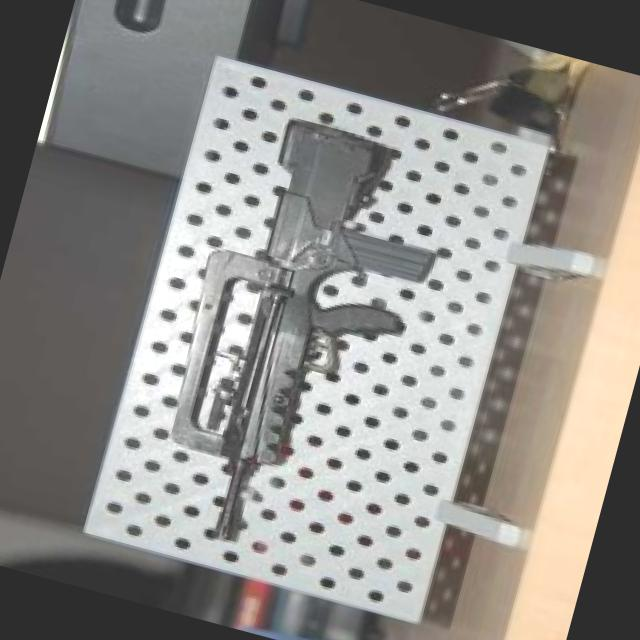long weapon: (108, 86, 430, 567)
